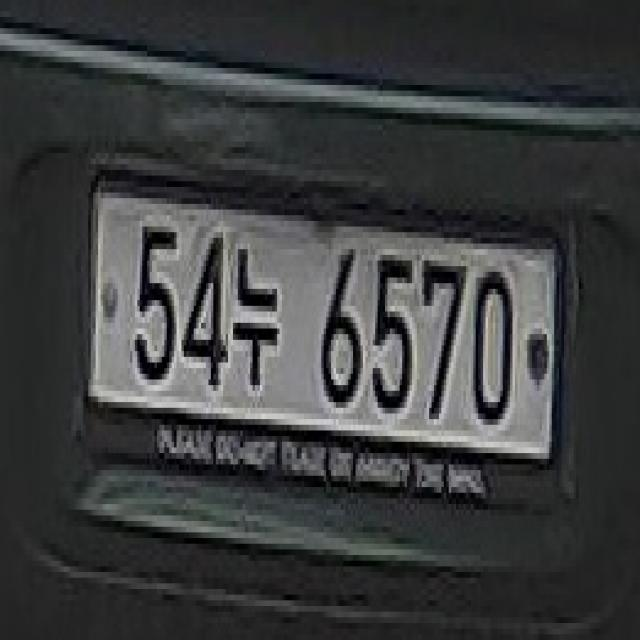0: (468, 244, 530, 453)
4: (179, 187, 228, 396)
5: (127, 182, 189, 396), (366, 238, 420, 430)
6: (319, 227, 375, 436)
7: (417, 244, 468, 431)
license_plate: (78, 147, 564, 527)
nu: (230, 221, 290, 396)
